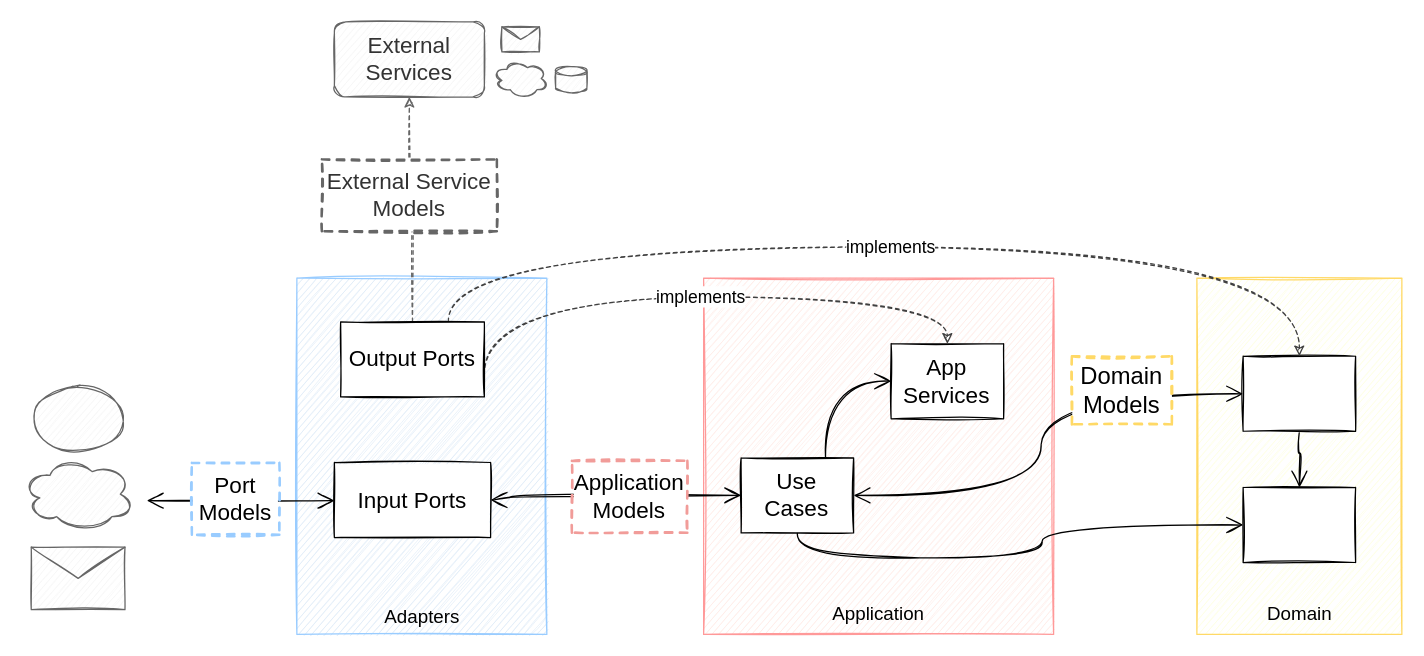
Image size: 1424x656. Some labels were removed from this diagram. The shapes that lost their labels are listed below. From the top down, each one's centre as x and y in pixels, then its label:
At pixel 1299 393: "Domain Services".
At pixel 77 418: "CLI".
At pixel 77 493: "http request".
At pixel 1299 524: "Entities".
At pixel 77 578: "message broker".
